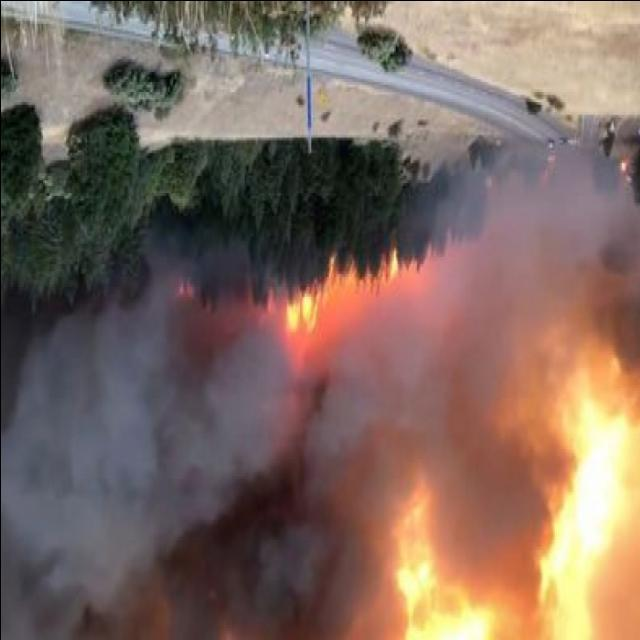Fire: (382, 358, 634, 638), (276, 247, 401, 343)
